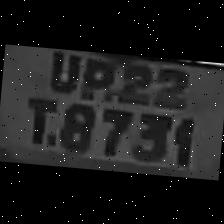1: (166, 110, 200, 168)
2: (152, 58, 192, 106), (120, 55, 158, 101)
3: (128, 108, 171, 160)
7: (93, 100, 134, 158)
8: (56, 95, 98, 153)
P: (78, 50, 119, 96)
T: (17, 90, 61, 148)
U: (42, 48, 83, 94)
